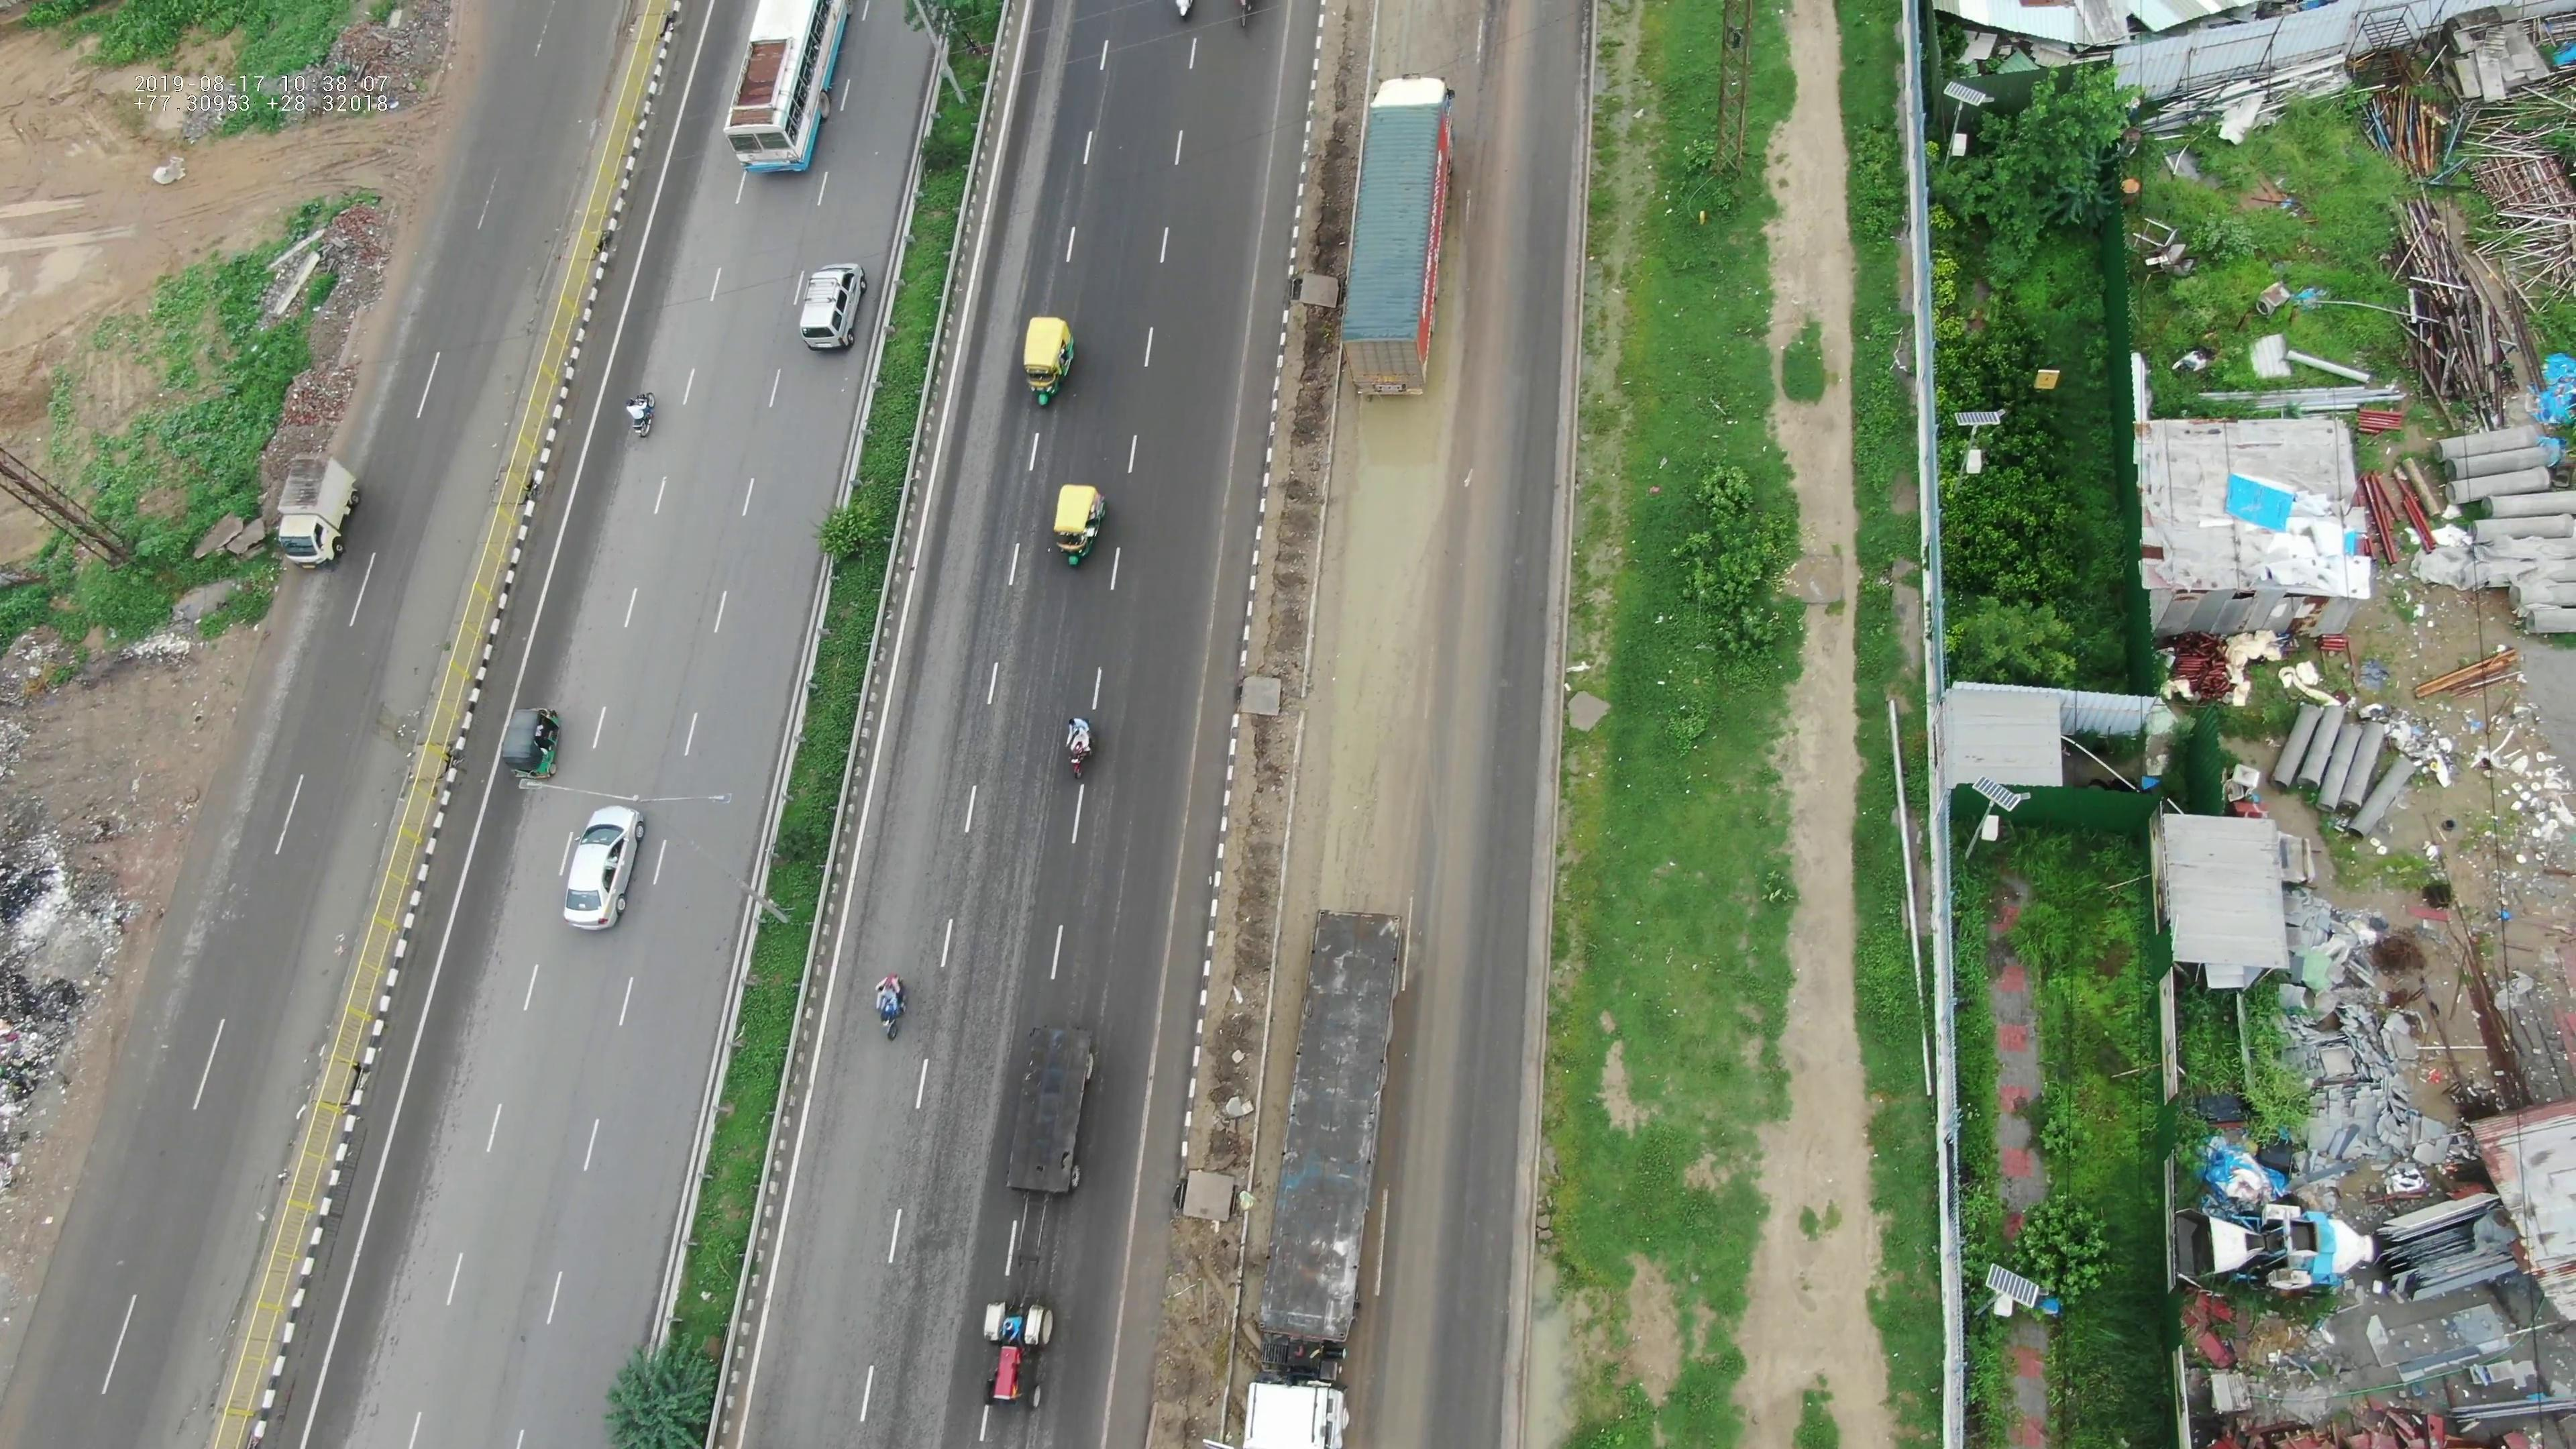Muddy_road: (1297, 400, 1472, 879)
